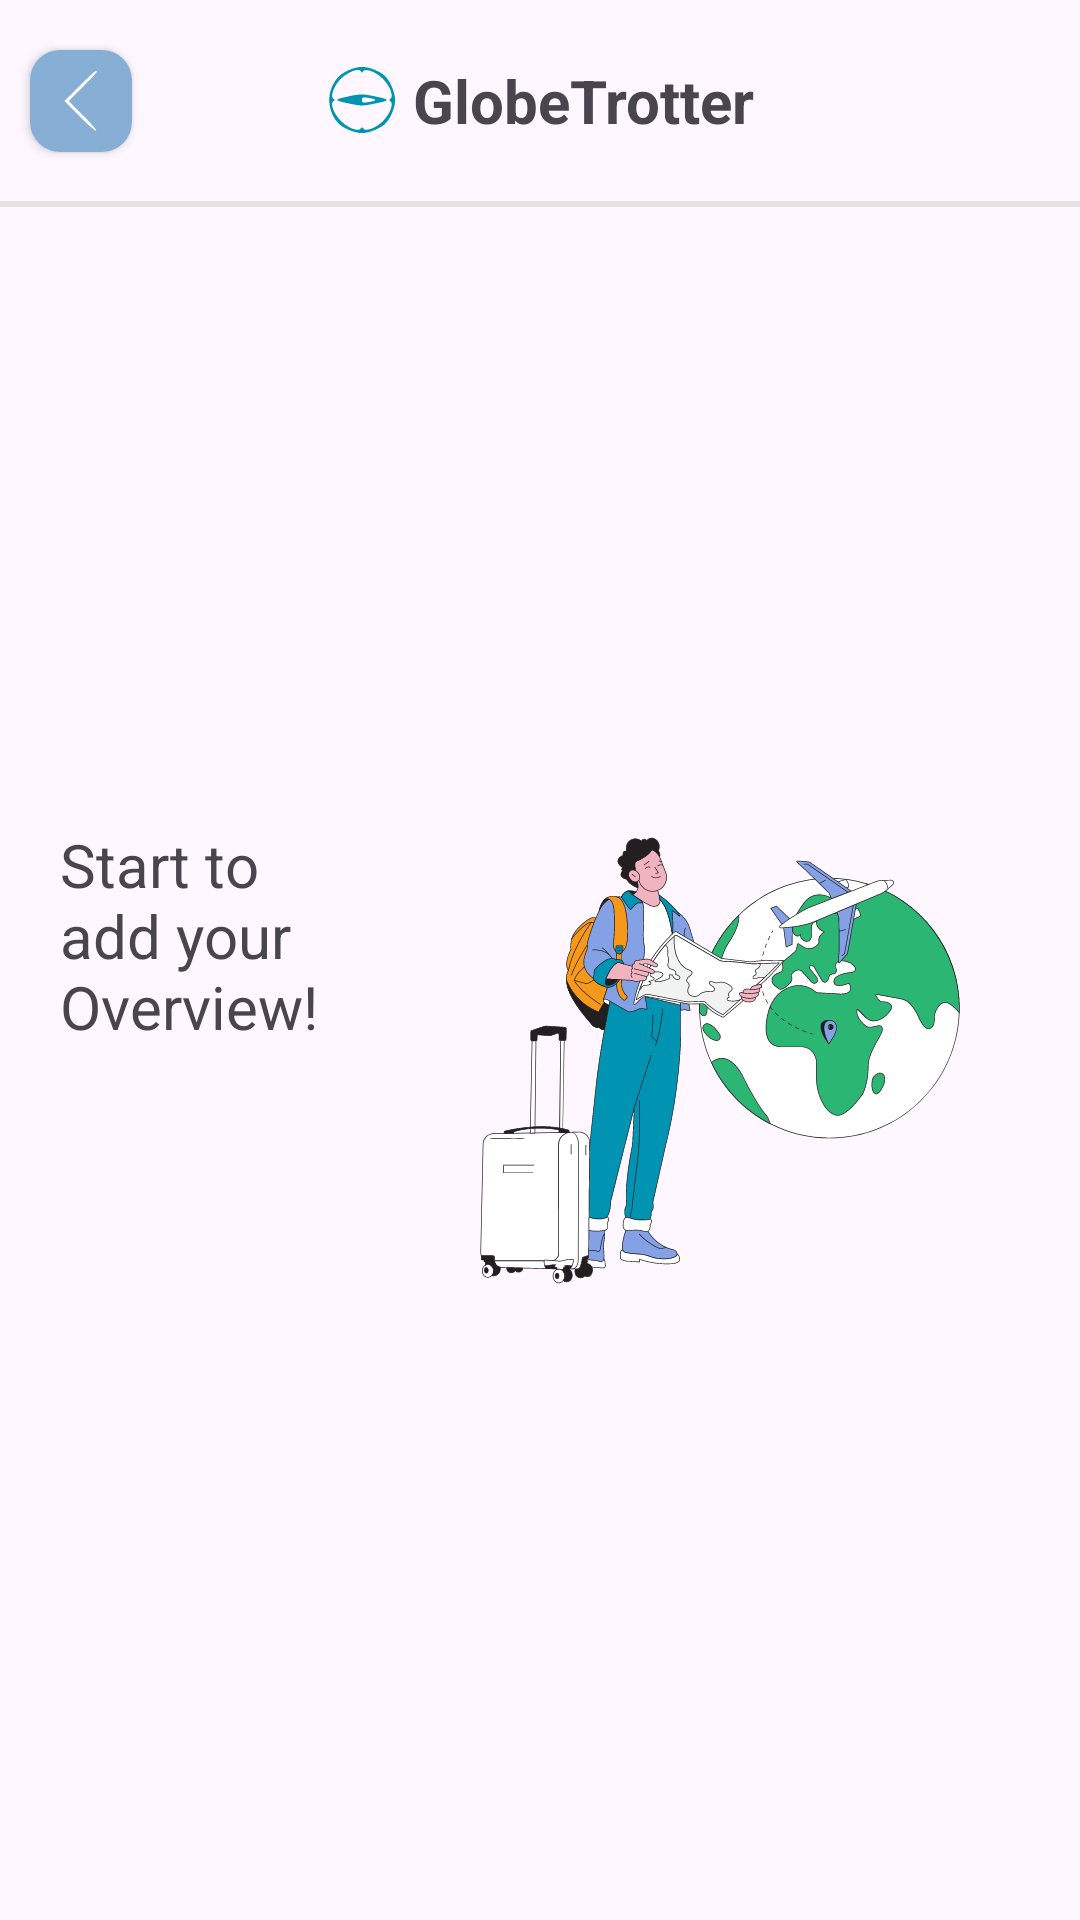

Screen size 1080px x 1920px. Icon name, then its center in pixels as (x,y):
back: (81,101)
